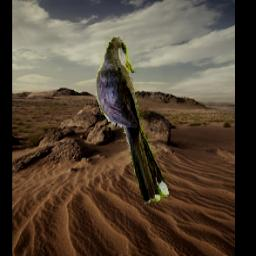Cuckoo: (96, 36, 169, 205)
